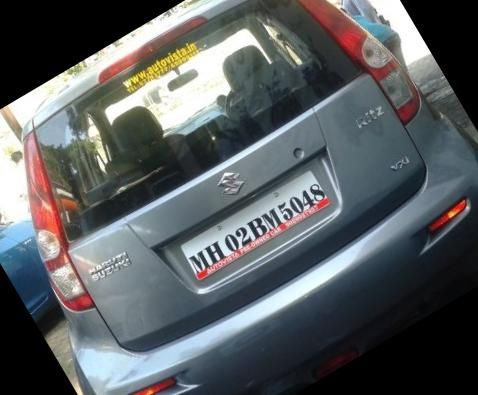plate: (165, 159, 345, 297)
